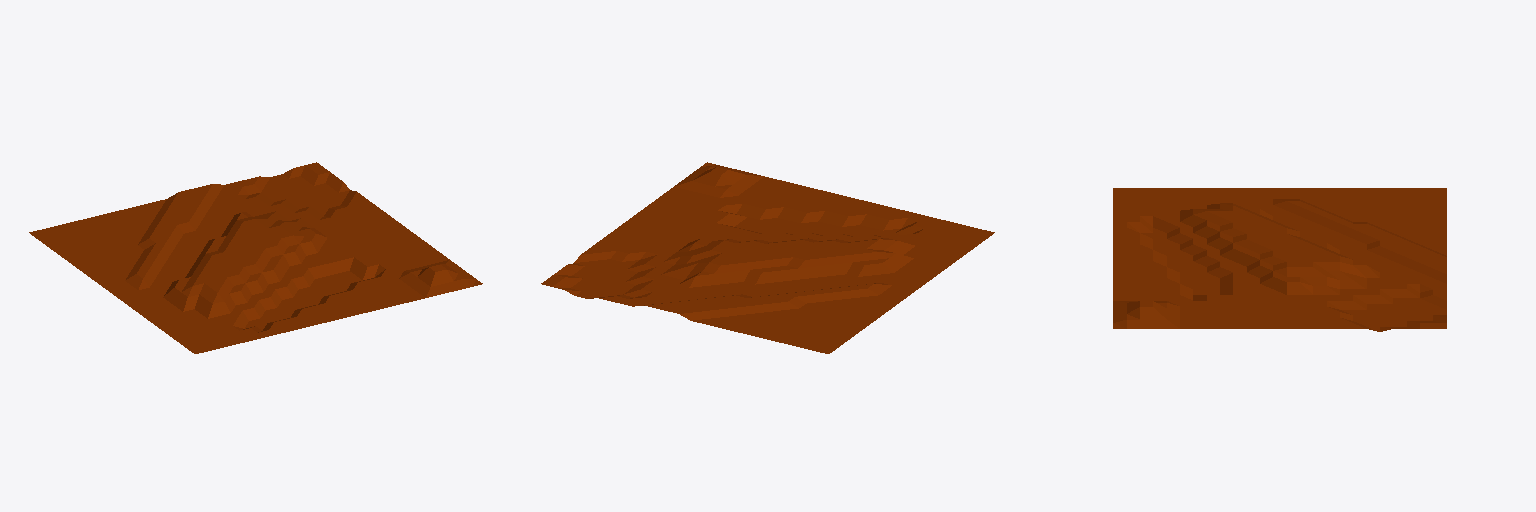
Rendered from snowplane.obj.
3 renders of one model, left to right at view 1: azimuth 30°, elevation 25°; view 2: azimuth 150°, elevation 25°; view 3: azimuth 270°, elevation 25°, orthographic.
Visible parts, largest first — view 1: Plane001; view 2: Plane001; view 3: Plane001.
Boxes of the visible parts, x1,y1,x2,y2 form: Plane001: [29, 162, 482, 353]; Plane001: [541, 162, 994, 353]; Plane001: [1113, 188, 1446, 331].
Bounding box in the file's own units: 50 × 2.74 × 50.